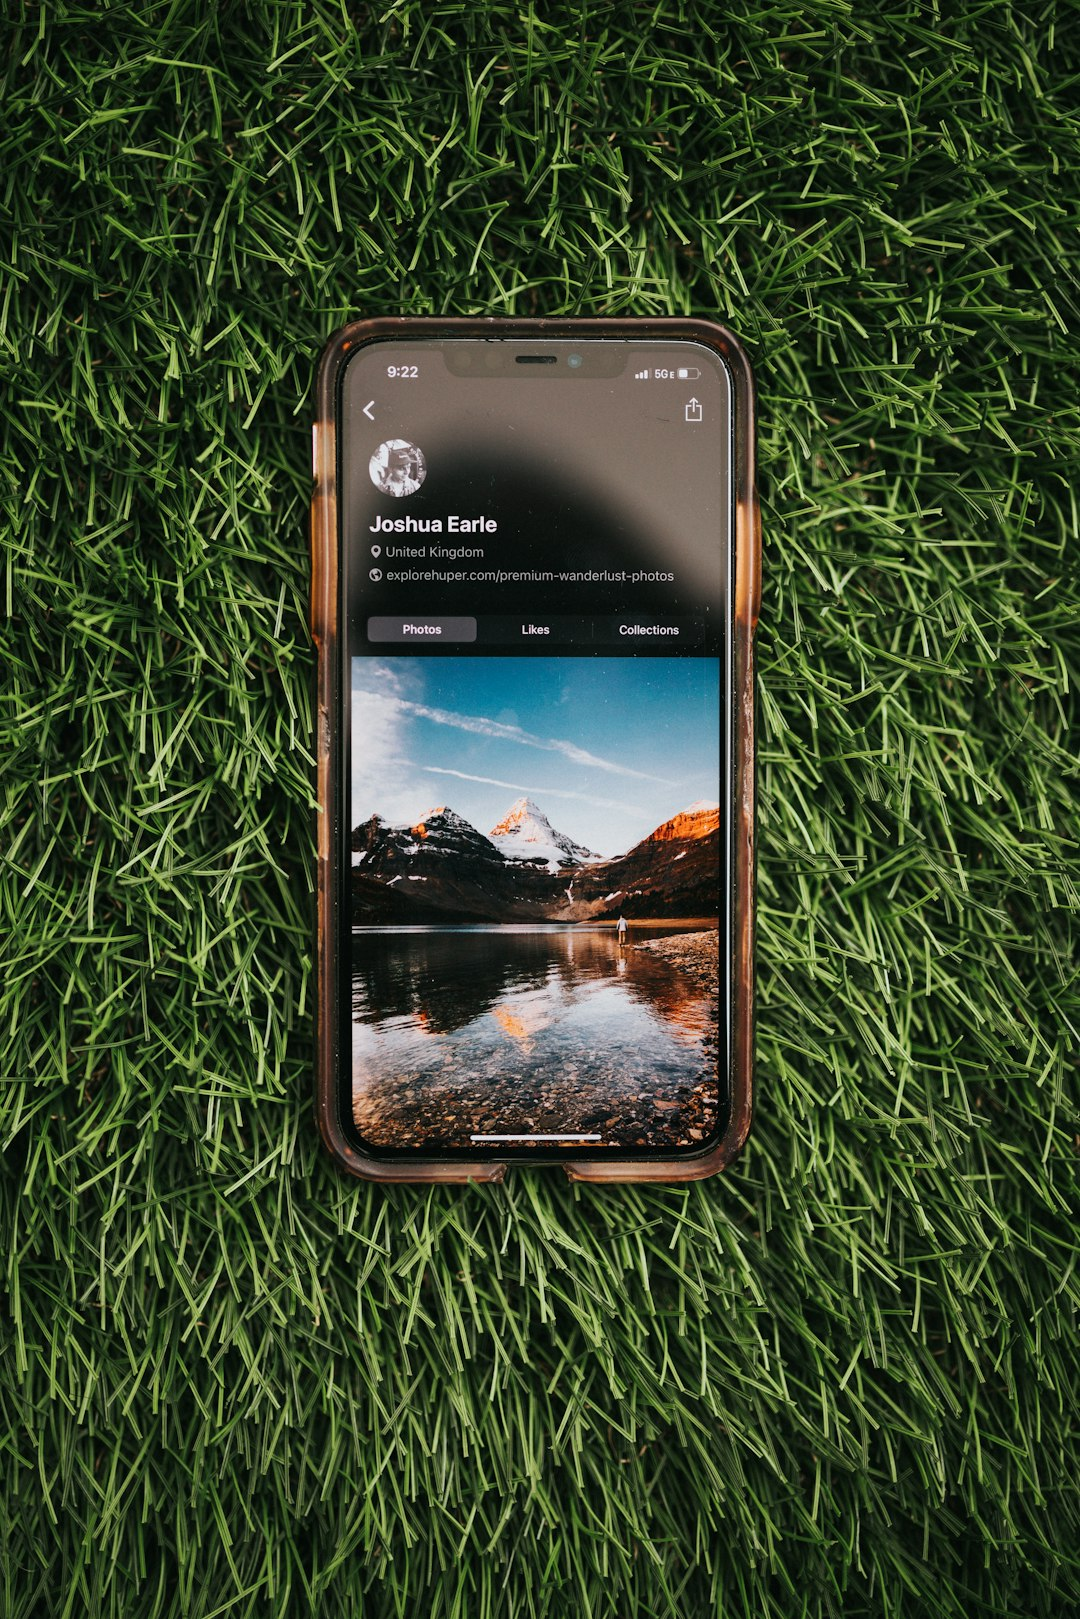phone: (315, 315, 749, 1181)
